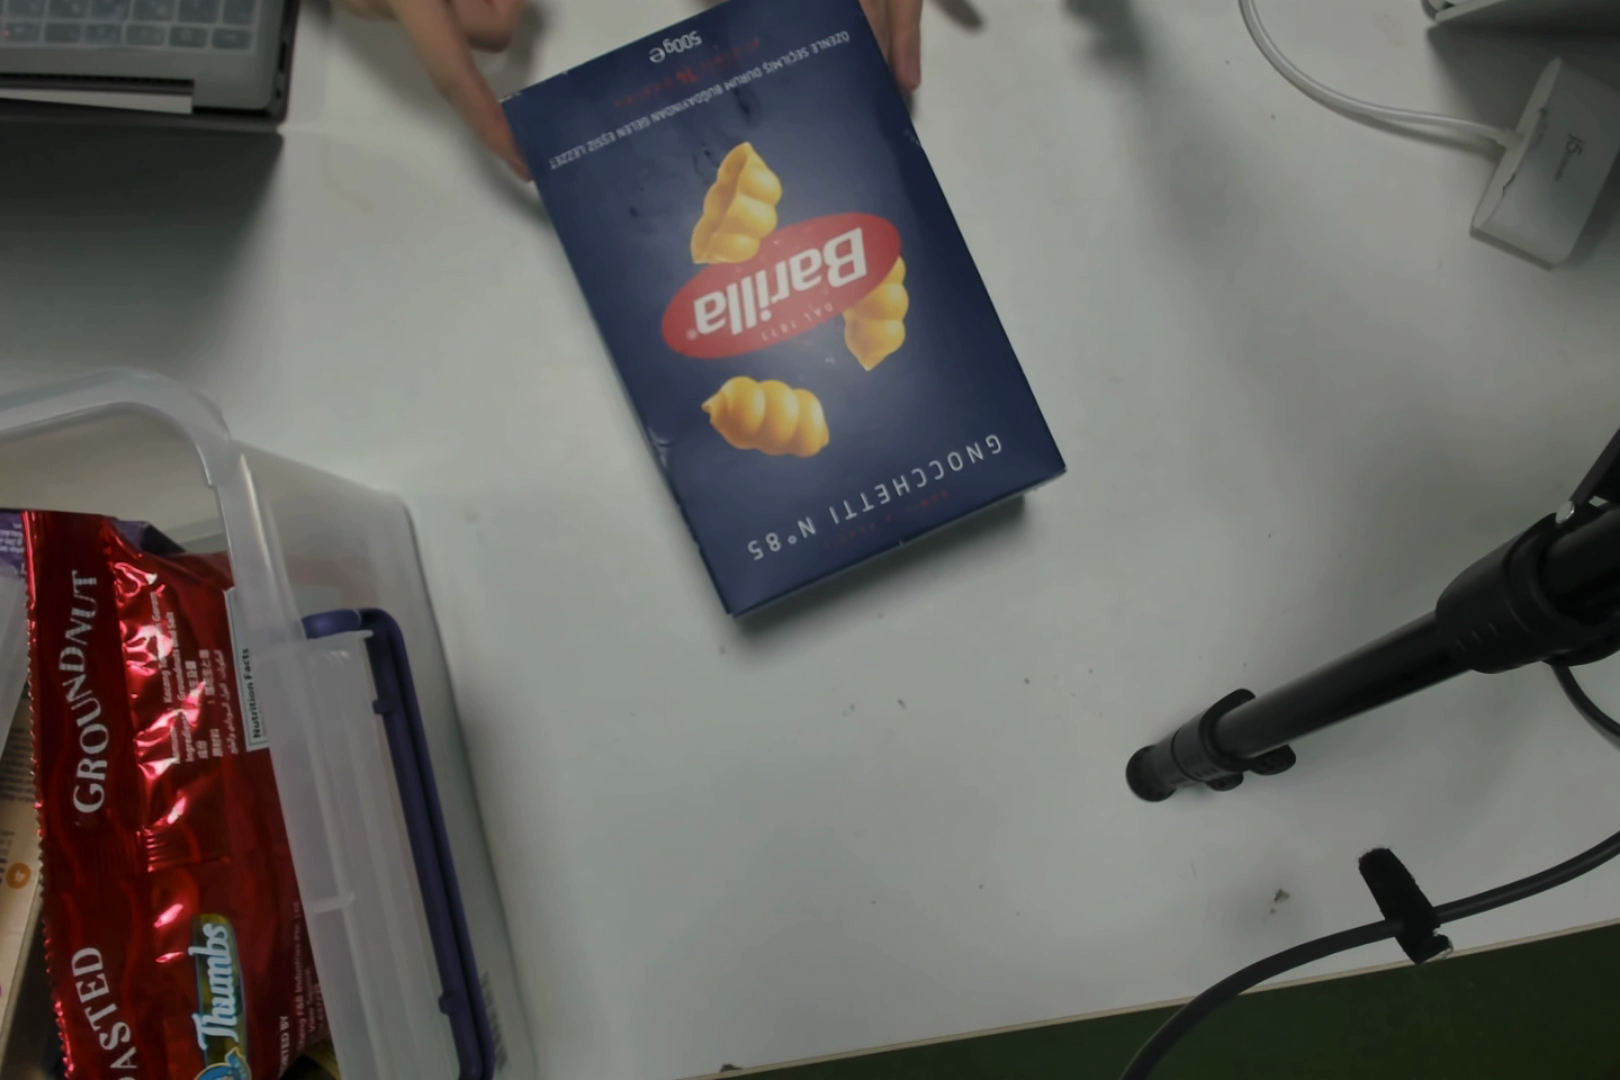Pasta_500-599g_NonHalal_NonHealthy: (604, 47, 1061, 579)
